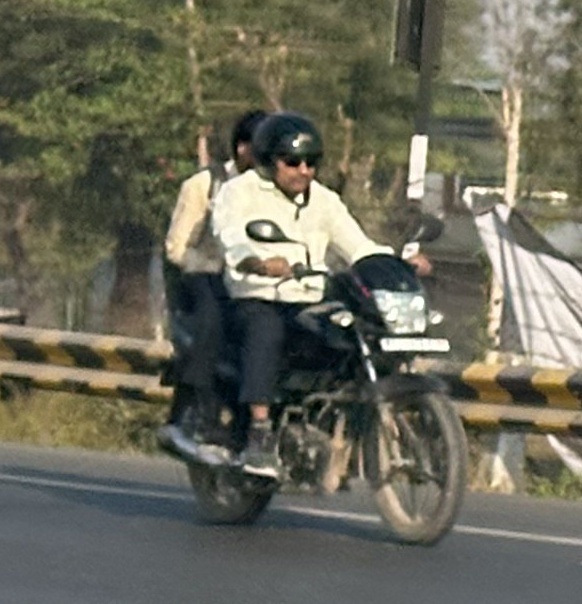BikeWithRider: (140, 96, 482, 553)
Helmet: (245, 107, 334, 198)
NoHelmet: (217, 102, 285, 179)
